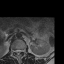CCS_normal: (17, 48, 19, 55)
LFS_normal: (21, 48, 23, 53)
LLS_normal: (19, 48, 21, 54)
RFS_normal: (13, 48, 15, 53)
RLS_normal: (15, 48, 17, 54)
